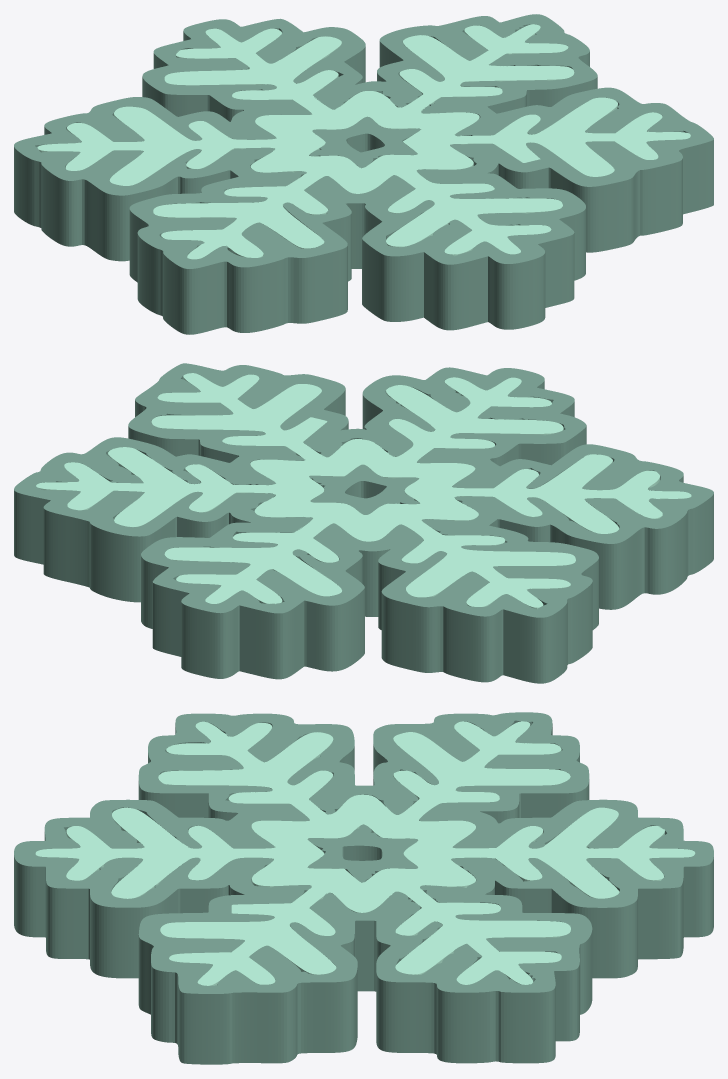
The model's file is Boost_1.fbx.
The picture shows the model from 3 angles, top to bottom: view 1: azimuth 30°, elevation 25°; view 2: azimuth 150°, elevation 25°; view 3: azimuth 270°, elevation 25°; orthographic projection. The views are drawn at different scales.
Visible parts, largest first — view 1: imagetostl_mesh1, imagetostl_mesh0, imagetostl_mesh5, imagetostl_mesh3, imagetostl_mesh4, imagetostl_mesh2; view 2: imagetostl_mesh1, imagetostl_mesh0, imagetostl_mesh5, imagetostl_mesh3, imagetostl_mesh4, imagetostl_mesh2; view 3: imagetostl_mesh1, imagetostl_mesh5, imagetostl_mesh0, imagetostl_mesh3, imagetostl_mesh4, imagetostl_mesh2.
Boxes of the visible parts, left/top/right/bottom form: imagetostl_mesh1: left=14, top=14, right=713, bottom=268; imagetostl_mesh0: left=14, top=24, right=713, bottom=334; imagetostl_mesh5: left=37, top=24, right=690, bottom=259; imagetostl_mesh3: left=309, top=116, right=420, bottom=167; imagetostl_mesh4: left=39, top=28, right=617, bottom=257; imagetostl_mesh2: left=309, top=133, right=413, bottom=163; imagetostl_mesh1: left=14, top=363, right=713, bottom=617; imagetostl_mesh0: left=14, top=374, right=713, bottom=683; imagetostl_mesh5: left=36, top=373, right=691, bottom=607; imagetostl_mesh3: left=309, top=464, right=419, bottom=514; imagetostl_mesh4: left=39, top=377, right=687, bottom=609; imagetostl_mesh2: left=310, top=478, right=419, bottom=503; imagetostl_mesh1: left=14, top=712, right=713, bottom=993; imagetostl_mesh5: left=35, top=721, right=695, bottom=985; imagetostl_mesh0: left=14, top=720, right=713, bottom=1064; imagetostl_mesh3: left=307, top=824, right=417, bottom=882; imagetostl_mesh4: left=66, top=724, right=664, bottom=985; imagetostl_mesh2: left=315, top=832, right=389, bottom=880.
Size of the model in its own units: 8555 by 1000 by 8984.
